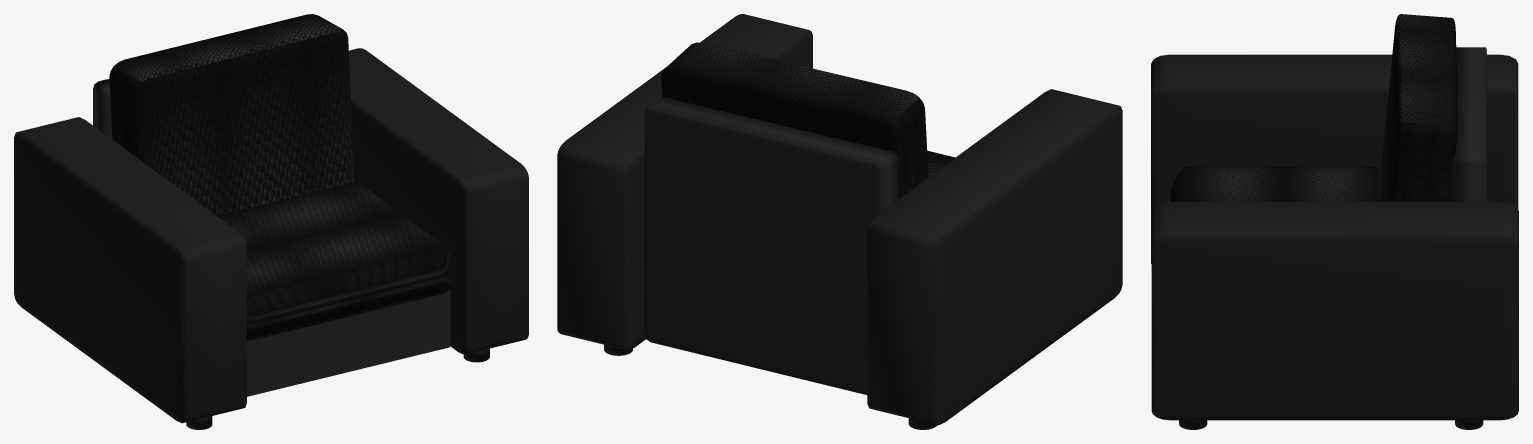
Rendered from Chair.glb.
3 views of the same model, side by side, from view 1: azimuth 30°, elevation 25°; view 2: azimuth 150°, elevation 25°; view 3: azimuth 270°, elevation 25° (orthographic). The views are drawn at different scales.
Parts seen in each view (by area): view 1: Cube.002, Cube.005, Cube.001, Cube.006, Cube.003, Cube; view 2: Cube.002, Cube, Cube.001, Cube.005; view 3: Cube.001, Cube.002, Cube.005, Cube.006, Cube.
Part boxes in pixels (bbox=[...]): Cube.002: bbox=[14, 117, 246, 423]; Cube.005: bbox=[109, 14, 354, 215]; Cube.001: bbox=[349, 48, 528, 354]; Cube.006: bbox=[217, 182, 450, 341]; Cube.003: bbox=[247, 290, 450, 396]; Cube: bbox=[93, 78, 112, 139]; Cube.002: bbox=[867, 89, 1122, 425]; Cube: bbox=[644, 97, 898, 394]; Cube.001: bbox=[557, 14, 812, 349]; Cube.005: bbox=[661, 42, 928, 198]; Cube.001: bbox=[1151, 202, 1518, 420]; Cube.002: bbox=[1151, 54, 1518, 263]; Cube.005: bbox=[1379, 14, 1457, 201]; Cube.006: bbox=[1170, 166, 1379, 201]; Cube: bbox=[1451, 47, 1486, 201].
Bounding box in the file's own units: 1.15 × 0.8465 × 0.9815.
Materials: 5 (2 with a texture image).
